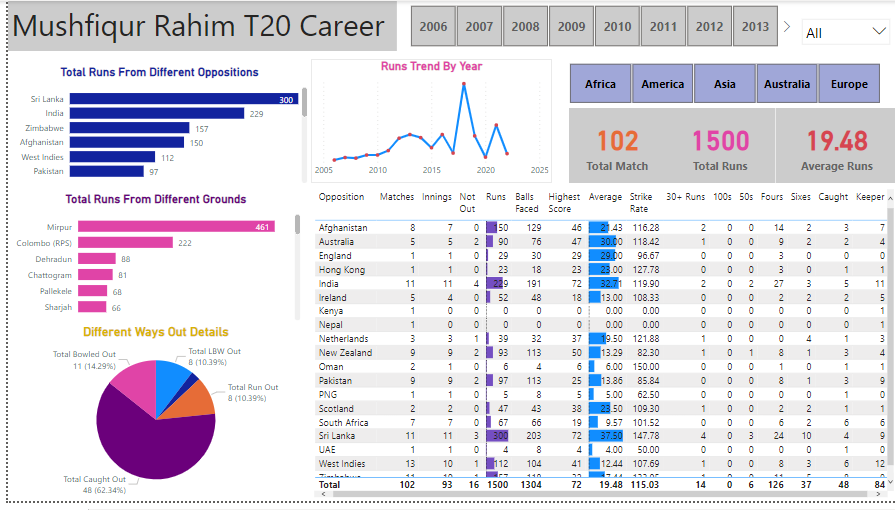

What the dashboard file says about the page in this screenshot:
{"tool":"powerbi","page":{"name":"Mushfiqur Rahim","canvas":[1280,720],"ordinal":0},"visuals":[{"type":"card","fields":{"Values":["Measures (2).Total Match"]},"box":[807.7,154,138.6,107.8],"z":0},{"type":"card","fields":{"Values":["Measures (2).Average Runs"]},"box":[1105.5,154,174.5,107.8],"z":1000},{"type":"card","fields":{"Values":["Measures (2).Total Runs"]},"box":[946.3,154,159.1,107.8],"z":2000},{"type":"tableEx","fields":{"Values":["Opponent_teams.Opposition","Measures (2).Total Match","Measures (2).Total Batting Innings","Measures (2).Total Not Out","Measures (2).Total Runs","Measures (2).Total Balls Faced","Measures (2).Highest Score","Measures (2).Average Runs","Measures (2).Strike Rate","Measures (2).Total 30+","Measures (2).Total 100","Measures (2).Total 50"]},"box":[436.4,267,843.6,453.5],"z":3000},{"type":"slicer","fields":{"Values":["Played_years.Year"]},"box":[554.4,0,578.4,71.9],"z":4000},{"type":"slicer","fields":{"Values":["Home_away.Home vs Away"]},"box":[1132.8,15.4,147.2,77],"z":5000},{"type":"slicer","fields":{"Values":["continent_names.Continent"]},"box":[784,84,496,70],"z":6000},{"type":"pieChart","title":"Different Ways Out Details","fields":{"Y":["Measures (2).Total LBW Out","Measures (2).Total Stumped Out","Measures (2).Total Run Out","Measures (2).Total Caught Out","Measures (2).Total Bowled Out"]},"box":[0,465.5,426.1,255],"z":7000},{"type":"lineChart","title":"Runs Trend By Year","fields":{"Category":["Played_years.Year"],"Y":["Measures (2).Total Runs"]},"box":[436.4,83.9,347.4,178],"z":8000},{"type":"barChart","title":"Total Runs From Different Oppositions","fields":{"Category":["Opponent_teams.Opposition"],"Y":["Measures (2).Total Runs"]},"box":[0,92.4,436.4,174.5],"z":9000},{"type":"barChart","title":"Total Runs From Different Grounds","fields":{"Y":["Measures (2).Total Runs"],"Category":["Ground_names.Ground"]},"box":[0,275.5,426.1,189.9],"z":10000},{"type":"textbox","box":[0,0,559.6,71.9],"z":11000}]}

Visuals, with their boxes in screenshot pixels (x1, y1, x2, y2), scaled from the page's 1280x720 canvas onto the 895x510 screenshot:
card - Measures (2).Total Match: 565,109,662,185
card - Measures (2).Average Runs: 773,109,894,185
card - Measures (2).Total Runs: 662,109,773,185
tableEx - Opponent_teams.Opposition x Measures (2).Total Match: 305,189,894,509
slicer - Played_years.Year: 388,0,792,51
slicer - Home_away.Home vs Away: 792,11,894,65
slicer - continent_names.Continent: 548,60,894,109
"Different Ways Out Details" pieChart: 0,330,298,509
"Runs Trend By Year" lineChart: 305,59,548,186
"Total Runs From Different Oppositions" barChart: 0,65,305,189
"Total Runs From Different Grounds" barChart: 0,195,298,330
textbox: 0,0,391,51
